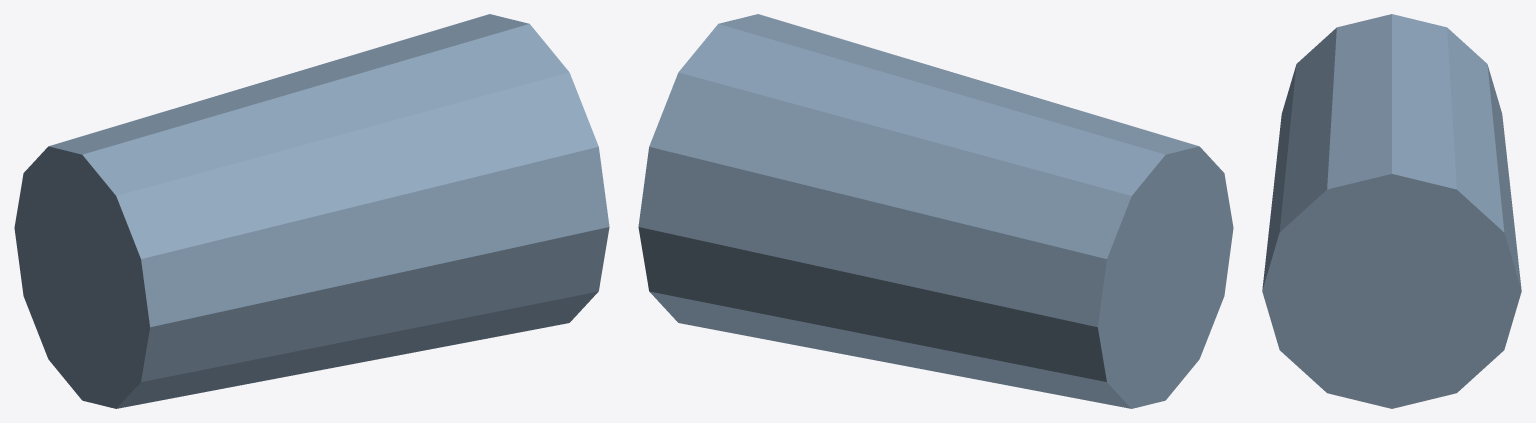
Rendered from bone_14.obj.
The picture shows the model from 3 angles, left to right: view 1: azimuth 30°, elevation 25°; view 2: azimuth 150°, elevation 25°; view 3: azimuth 270°, elevation 25°; orthographic projection. The views are drawn at different scales.
Visible parts, largest first — view 1: bone_14; view 2: bone_14; view 3: bone_14.
Part boxes in pixels (x1=…): bone_14: x1=14, y1=14, x2=609, y2=408; bone_14: x1=638, y1=14, x2=1233, y2=408; bone_14: x1=1262, y1=14, x2=1521, y2=408.
Bounding box in the file's own units: 0.0259 × 0.016 × 0.016.
